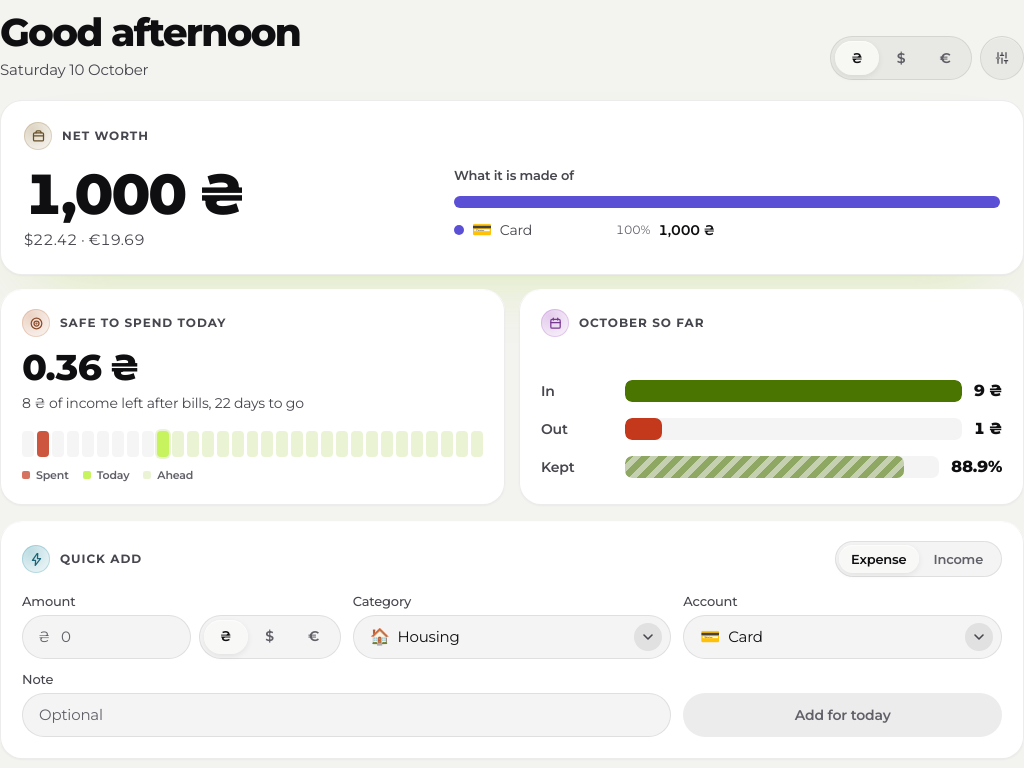
Scenario: DashboardPage › stops offering the first steps in the layout settings once they are done
The width and height of the screenshot is (1024, 768).
Click the button named "Arrange the overview": click(1002, 58) left=980, top=36, right=1023, bottom=80
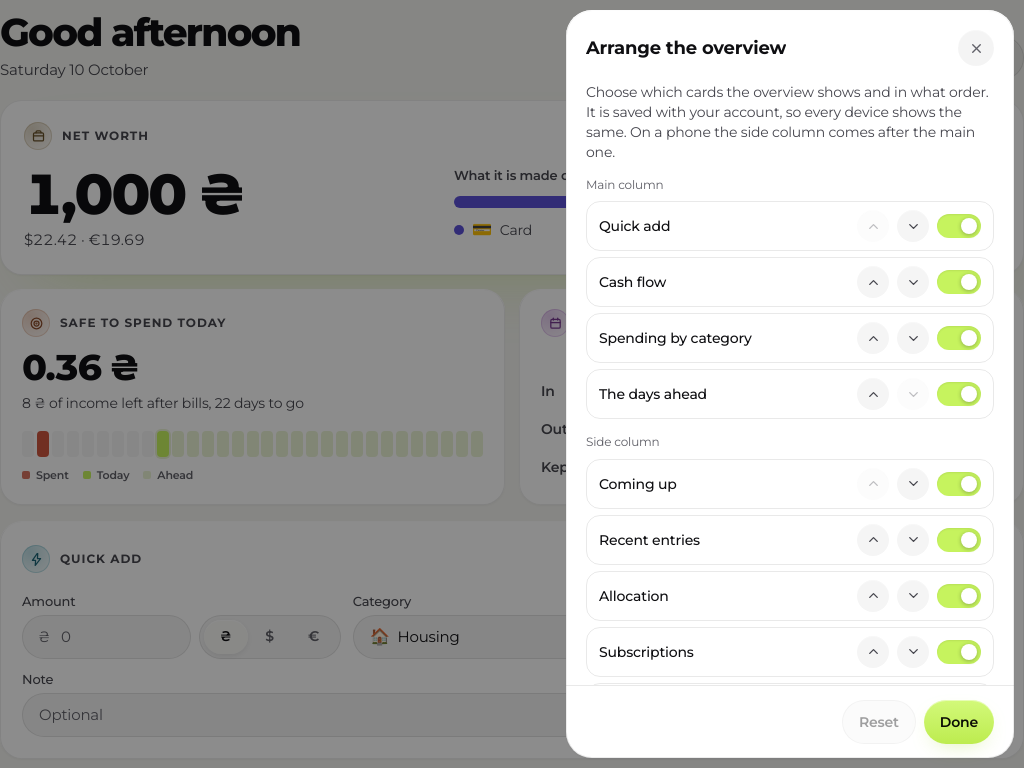
Expected: the switch named "Show Quick add" is shown, left=937, top=214, right=981, bottom=238
